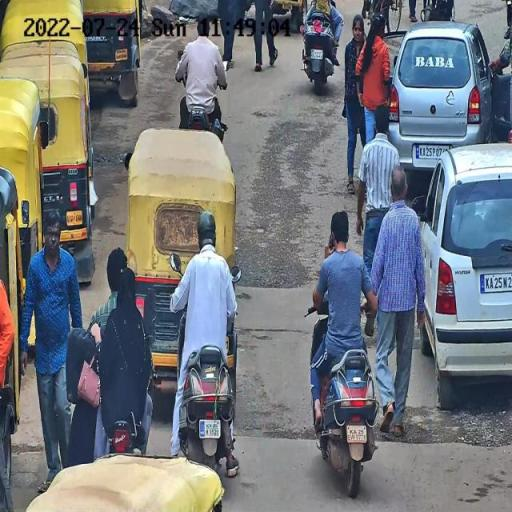using mobile: (324, 230, 338, 258)
